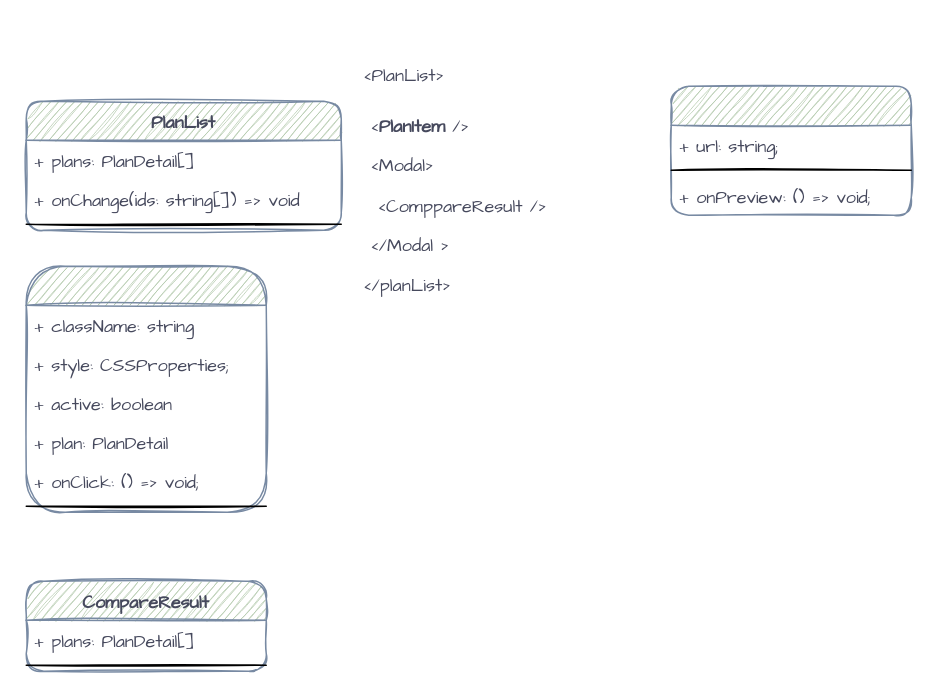
This 938x698 diagram has some shape labels left out. Each missing label, with the box of its shape:
ImageVeiwer: (670, 85, 911, 215)
PlanItem: (25, 265, 266, 512)
